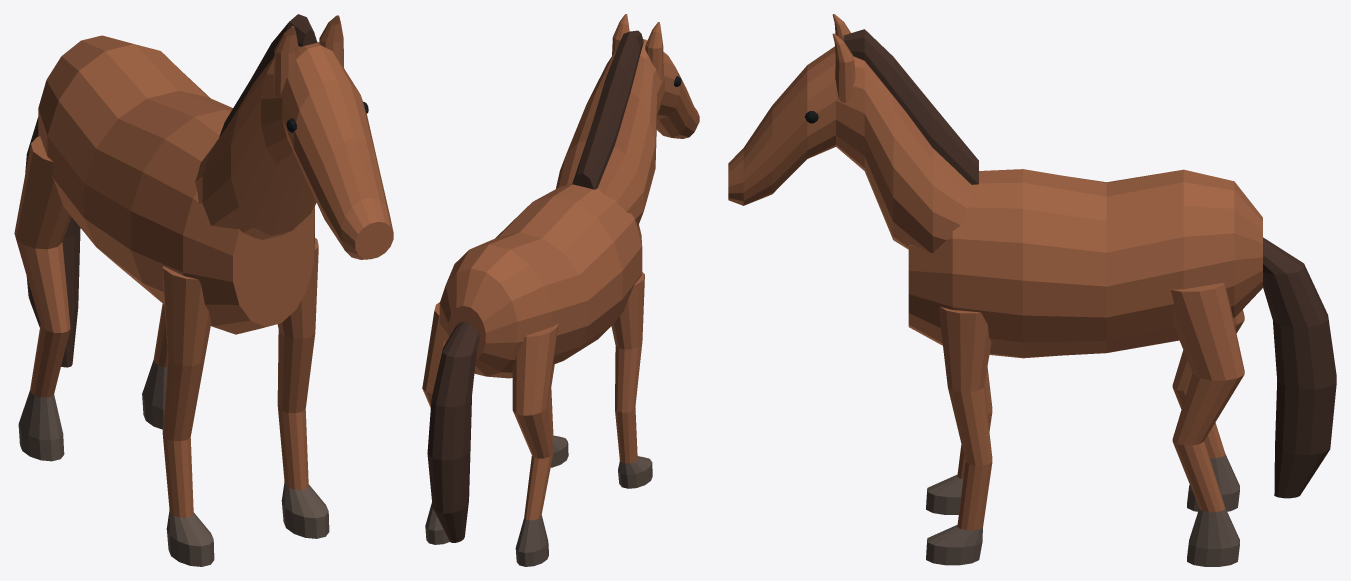
3 renders of one model, left to right at view 1: azimuth 30°, elevation 25°; view 2: azimuth 150°, elevation 25°; view 3: azimuth 270°, elevation 25°, orthographic. The views are drawn at different scales.
Visible parts, largest first — view 1: WholeDeepBarrelShoulderAndRoundedHindquarters, WholeHighArchedNeckAndLongDownwardMuzzle, WholeJointedRearLegAndIntegralHoof0, WholeJointedFrontLegAndIntegralHoof0, WholeJointedFrontLegAndIntegralHoof1, WholeLongHangingTaperedTail, WholeJointedRearLegAndIntegralHoof1, WholeThickSweptManeCrest, WholeUprightTaperedEar0, WholeUprightTaperedEar1; view 2: WholeDeepBarrelShoulderAndRoundedHindquarters, WholeHighArchedNeckAndLongDownwardMuzzle, WholeLongHangingTaperedTail, WholeJointedRearLegAndIntegralHoof0, WholeJointedFrontLegAndIntegralHoof0, WholeThickSweptManeCrest, WholeJointedRearLegAndIntegralHoof1, WholeUprightTaperedEar0, WholeJointedFrontLegAndIntegralHoof1; view 3: WholeDeepBarrelShoulderAndRoundedHindquarters, WholeHighArchedNeckAndLongDownwardMuzzle, WholeLongHangingTaperedTail, WholeJointedRearLegAndIntegralHoof1, WholeJointedFrontLegAndIntegralHoof1, WholeThickSweptManeCrest, WholeJointedRearLegAndIntegralHoof0, WholeJointedFrontLegAndIntegralHoof0, WholeUprightTaperedEar1.
Boxes of the visible parts, <box> form: WholeDeepBarrelShoulderAndRoundedHindquarters: <box>38,35,314,334</box>; WholeHighArchedNeckAndLongDownwardMuzzle: <box>195,41,393,259</box>; WholeJointedRearLegAndIntegralHoof0: <box>14,136,71,461</box>; WholeJointedFrontLegAndIntegralHoof0: <box>162,266,214,566</box>; WholeJointedFrontLegAndIntegralHoof1: <box>277,238,329,538</box>; WholeLongHangingTaperedTail: <box>25,117,80,367</box>; WholeJointedRearLegAndIntegralHoof1: <box>142,304,167,429</box>; WholeThickSweptManeCrest: <box>219,14,316,136</box>; WholeUprightTaperedEar0: <box>273,26,298,96</box>; WholeUprightTaperedEar1: <box>319,15,343,67</box>; WholeDeepBarrelShoulderAndRoundedHindquarters: <box>439,183,642,378</box>; WholeHighArchedNeckAndLongDownwardMuzzle: <box>556,39,699,225</box>; WholeLongHangingTaperedTail: <box>427,321,479,542</box>; WholeJointedRearLegAndIntegralHoof0: <box>512,323,558,566</box>; WholeJointedFrontLegAndIntegralHoof0: <box>611,272,652,488</box>; WholeThickSweptManeCrest: <box>572,30,643,189</box>; WholeJointedRearLegAndIntegralHoof1: <box>422,302,449,544</box>; WholeUprightTaperedEar0: <box>645,22,663,80</box>; WholeJointedFrontLegAndIntegralHoof1: <box>548,364,568,467</box>; WholeDeepBarrelShoulderAndRoundedHindquarters: <box>908,169,1262,358</box>; WholeHighArchedNeckAndLongDownwardMuzzle: <box>728,46,972,253</box>; WholeLongHangingTaperedTail: <box>1263,237,1336,498</box>; WholeJointedRearLegAndIntegralHoof1: <box>1171,282,1244,566</box>; WholeJointedFrontLegAndIntegralHoof1: <box>926,307,992,565</box>; WholeThickSweptManeCrest: <box>843,29,978,184</box>; WholeJointedRearLegAndIntegralHoof0: <box>1172,309,1244,511</box>; WholeJointedFrontLegAndIntegralHoof0: <box>926,367,992,514</box>; WholeUprightTaperedEar1: <box>832,33,855,102</box>.
Bounding box in the file's own units: 0.7539 × 2.55 × 2.77.
